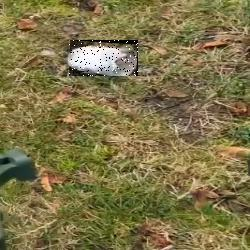plastic: (69, 40, 138, 76)
